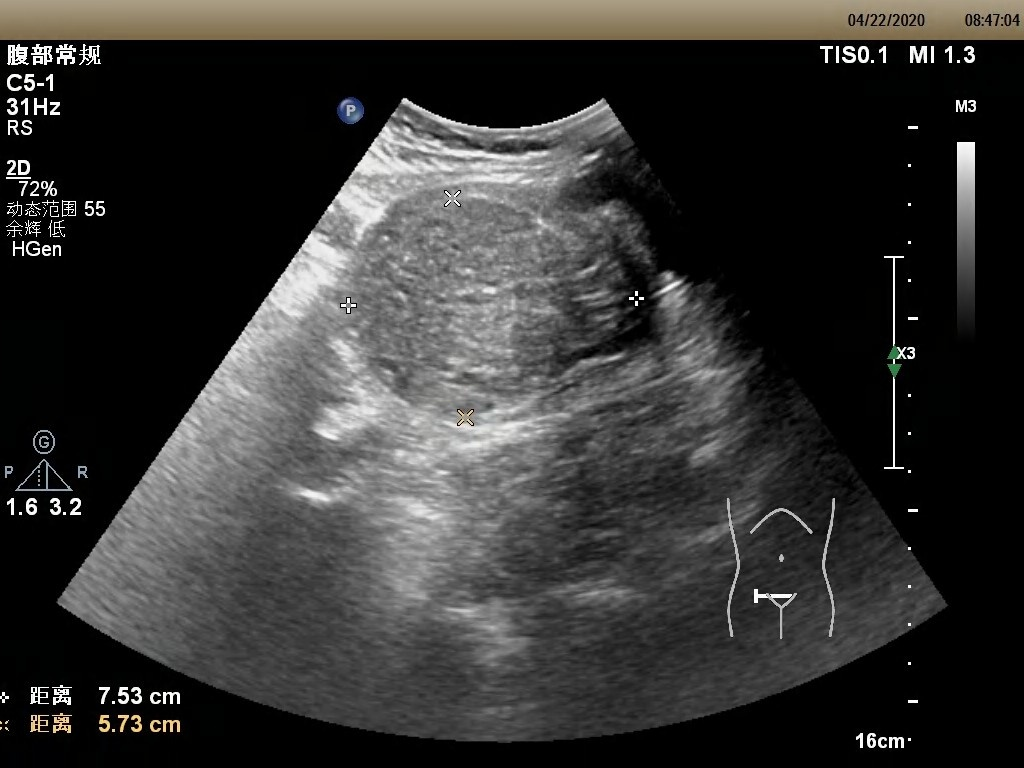肌瘤: (364, 195, 633, 404)
